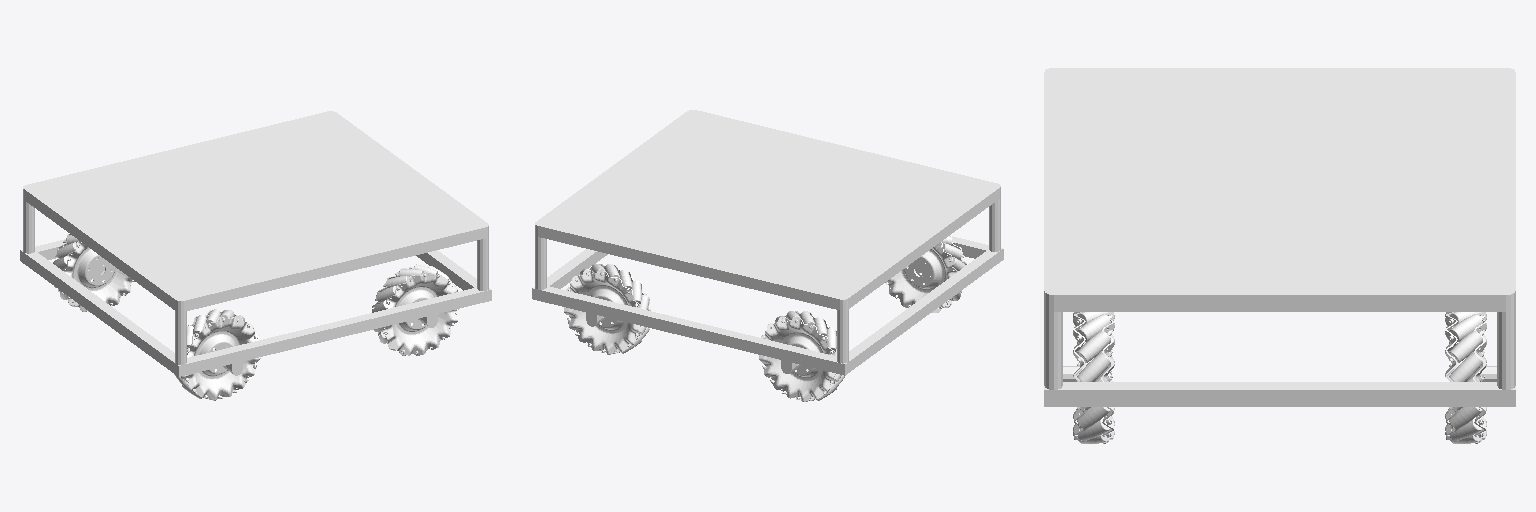
robot.urdf — simplebb:
<?xml version="1.0" encoding="utf-8"?>
<robot name="simplebb">
  <link name="base_footprint">
      <visual>
        <geometry>
          <sphere radius="0.0001" />
        </geometry>
      </visual>
    </link>
  <link
    name="base_link">
    <inertial>
      <origin
        xyz="0 -5.5511E-17 -0.026187"
        rpy="0 0 0" />
      <mass
        value="24.1499" />
      <inertia
        ixx="19.541"
        ixy="0"
        ixz="0"
        iyy="2.4546"
        iyz="0"
        izz="4.1766" />
    </inertial>
    <visual>
      <origin
        xyz="0 0 0"
        rpy="0 0 0" />
      <geometry>
        <mesh
          filename="package://simplebb/meshes/base_link.STL" />
      </geometry>
      <material
        name="">
        <color
          rgba="1 1 1 1" />
      </material>
    </visual>
    <collision>
      <origin
        xyz="0 0 0"
        rpy="0 0 0" />
      <geometry>
        <mesh
          filename="package://simplebb/meshes/base_link.STL" />
      </geometry>
    </collision>
  </link>
  <joint name="base_link2base_footprint" type="fixed">
      <parent link="base_footprint" />
      <child link="base_link" />
      <origin xyz="0 0 0.14842" />
    </joint>
  <link name="f_l_l">
    <inertial>
      <origin xyz="1.305E-06 0.014423 4.6233E-06" rpy="0 0 0" />
      <mass value="0.21836" />
      <inertia ixx="0.00010444" ixy="-9.9501E-08" ixz="-1.3183E-07" iyy="0.00018522" iyz="2.8085E-08" izz="0.00010401" />
    </inertial>
    <visual>
      <origin xyz="0 0 0" rpy="0 0 0" />
      <geometry>
        <mesh filename="package://simplebb/meshes/f_l_l.STL" />
      </geometry>
      <material name="">
        <color rgba="1 1 1 1" />
      </material>
    </visual>
    <collision>
      <origin xyz="0 0 0" rpy="0 0 0" />
      <geometry>
        <mesh filename="package://simplebb/meshes/f_l_l.STL" />
      </geometry>
    </collision>
  </link>
  <joint name="f_l_j" type="continuous">
    <origin xyz="0.1838 0.1899 -0.14842" rpy="0 0 0" />
    <parent link="base_link" />
    <child link="f_l_l" />
    <axis xyz="0 -1 0" />
  </joint>
  <link name="f_r_l">
    <inertial>
      <origin xyz="1.3052E-06 -0.014178 4.6234E-06" rpy="0 0 0" />
      <mass value="0.21836" />
      <inertia ixx="0.00010444" ixy="-9.95E-08" ixz="-1.3184E-07" iyy="0.00018522" iyz="2.8085E-08" izz="0.00010401" />
    </inertial>
    <visual>
      <origin xyz="0 0 0" rpy="0 0 0" />
      <geometry>
        <mesh filename="package://simplebb/meshes/f_r_l.STL" />
      </geometry>
      <material name="">
        <color rgba="1 1 1 1" />
      </material>
    </visual>
    <collision>
      <origin xyz="0 0 0" rpy="0 0 0" />
      <geometry>
        <mesh filename="package://simplebb/meshes/f_r_l.STL" />
      </geometry>
    </collision>
  </link>
  <joint name="f_r_j" type="continuous">
    <origin xyz="0.1838 -0.1899 -0.14842" rpy="0 0 0" />
    <parent link="base_link" />
    <child link="f_r_l" />
    <axis
      xyz="0 1 0" />
  </joint>
  <link name="b_l_l">
    <inertial>
      <origin xyz="1.3052E-06 0.013623 4.6233E-06" rpy="0 0 0" />
      <mass value="0.21836" />
      <inertia ixx="0.00010444" ixy="-9.95E-08" ixz="-1.3183E-07" iyy="0.00018522" iyz="2.8085E-08" izz="0.00010401" />
    </inertial>
    <visual>
      <origin xyz="0 0 0" rpy="0 0 0" />
      <geometry>
        <mesh filename="package://simplebb/meshes/b_l_l.STL" />
      </geometry>
      <material name="">
        <color rgba="1 1 1 1" />
      </material>
    </visual>
    <collision>
      <origin xyz="0 0 0" rpy="0 0 0" />
      <geometry>
        <mesh filename="package://simplebb/meshes/b_l_l.STL" />
      </geometry>
    </collision>
  </link>
  <joint name="b_l_j" type="continuous">
    <origin xyz="-0.1838 0.1899 -0.14842" rpy="0 0 0" />
    <parent link="base_link" />
    <child link="b_l_l" />
    <axis xyz="0 -1 0" />
  </joint>
  <link name="b_r_l">
    <inertial>
      <origin xyz="1.3052E-06 -0.013623 4.6233E-06" rpy="0 0 0" />
      <mass value="0.21836" />
      <inertia ixx="0.00010444" ixy="-9.95E-08" ixz="-1.3183E-07" iyy="0.00018522" iyz="2.8085E-08" izz="0.00010401" />
    </inertial>
    <visual>
      <origin xyz="0 0 0" rpy="0 0 0" />
      <geometry>
        <mesh filename="package://simplebb/meshes/b_r_l.STL" />
      </geometry>
      <material name="">
        <color rgba="1 1 1 1" />
      </material>
    </visual>
    <collision>
      <origin xyz="0 0 0" rpy="0 0 0" />
      <geometry>
        <mesh filename="package://simplebb/meshes/b_r_l.STL" />
      </geometry>
    </collision>
  </link>
  <joint name="b_r_j" type="continuous">
    <origin xyz="-0.1838 -0.1899 -0.14842" rpy="0 0 0" />
    <parent link="base_link" />
    <child link="b_r_l" />
    <axis xyz="0 1 0" />
  </joint>

</robot>

--- Render facts (derived) ---
Views: 3 orthographic renders of the robot side by side, from view 1: azimuth 30°, elevation 25°; view 2: azimuth 150°, elevation 25°; view 3: azimuth 270°, elevation 25°.
Robot: simplebb — 6 links, 5 joints (4 continuous, 1 fixed); root link base_footprint; default pose: all joints at 0.
Links seen in each view (by area): view 1: base_link, f_r_l, b_r_l, b_l_l; view 2: base_link, f_l_l, b_l_l, b_r_l; view 3: base_link, f_l_l, f_r_l.
Boxes of the visible links, left/top/right/bottom form: base_link: left=20, top=111, right=491, bottom=376; f_r_l: left=372, top=264, right=458, bottom=355; b_r_l: left=174, top=309, right=260, bottom=400; b_l_l: left=53, top=234, right=134, bottom=311; base_link: left=532, top=110, right=1003, bottom=375; f_l_l: left=564, top=264, right=650, bottom=354; b_l_l: left=759, top=311, right=844, bottom=401; b_r_l: left=885, top=235, right=966, bottom=312; base_link: left=1044, top=68, right=1515, bottom=406; f_l_l: left=1445, top=312, right=1486, bottom=443; f_r_l: left=1073, top=312, right=1114, bottom=443.
Size in the robot's own frame: 0.59 by 0.517 by 0.2245 metres.
Meshes: 5 distinct files referenced, 5 mesh visuals loaded (5 binary STL).